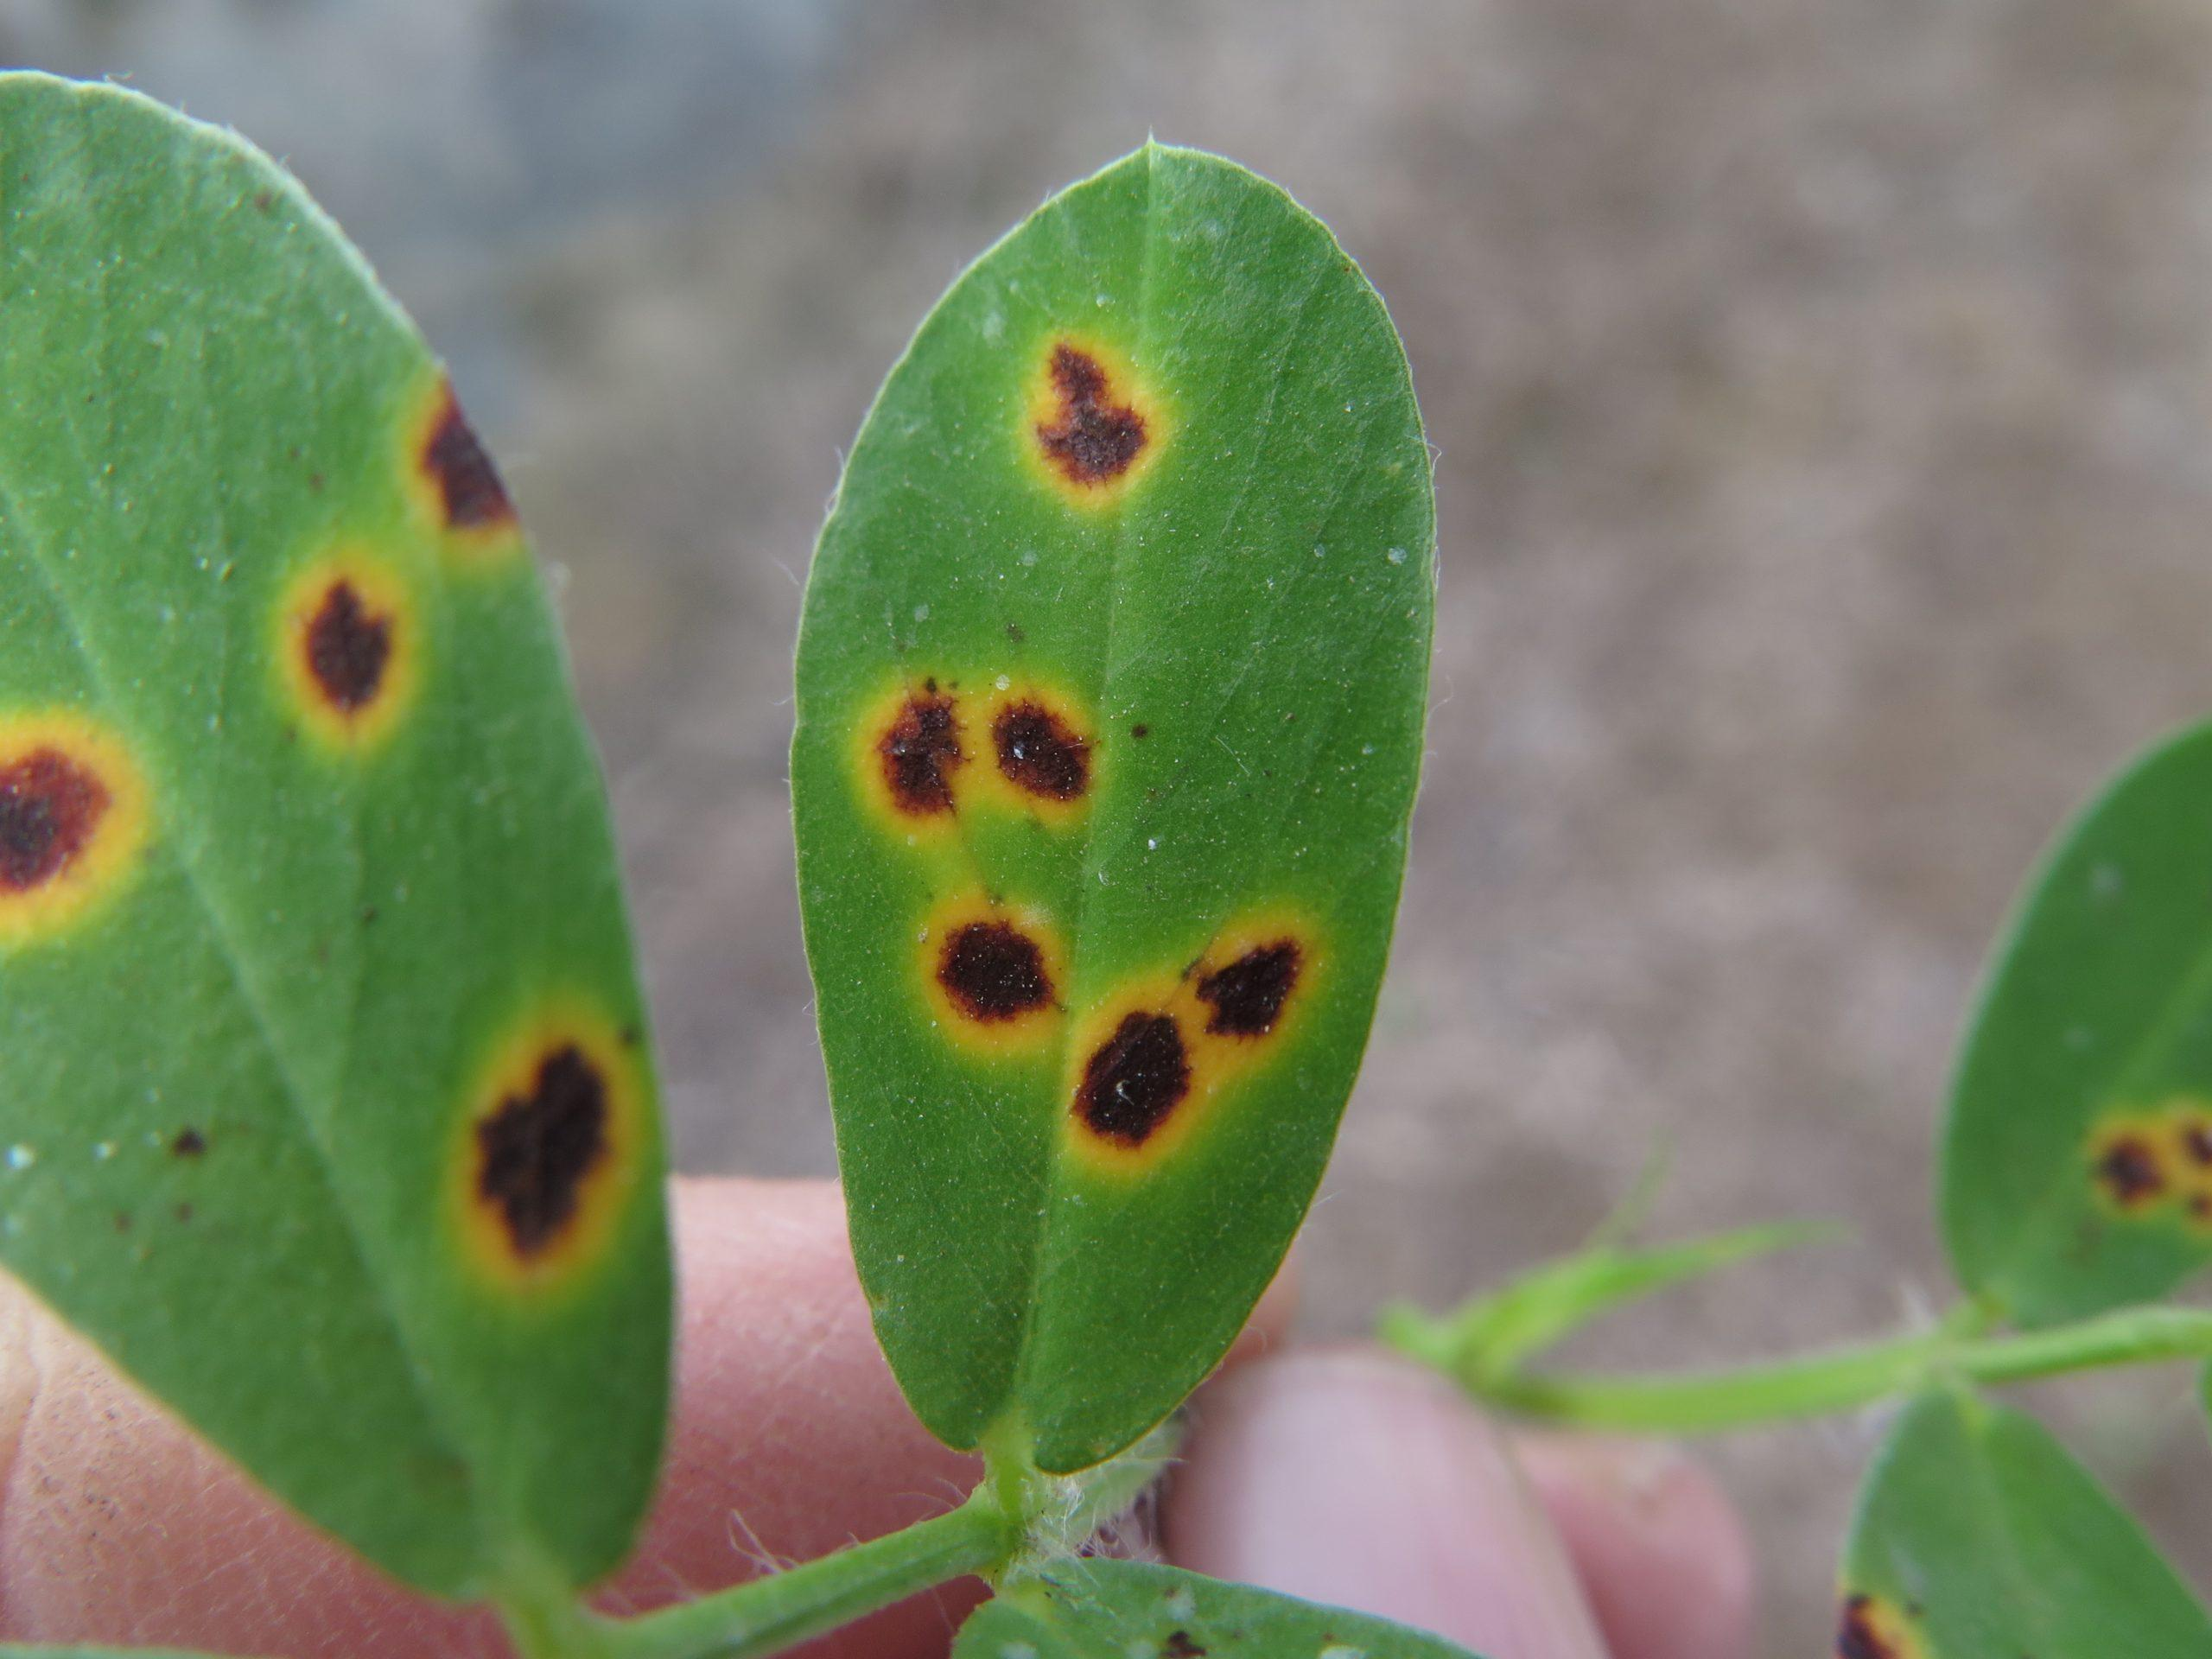black-spot: (825, 300, 1319, 1143)
